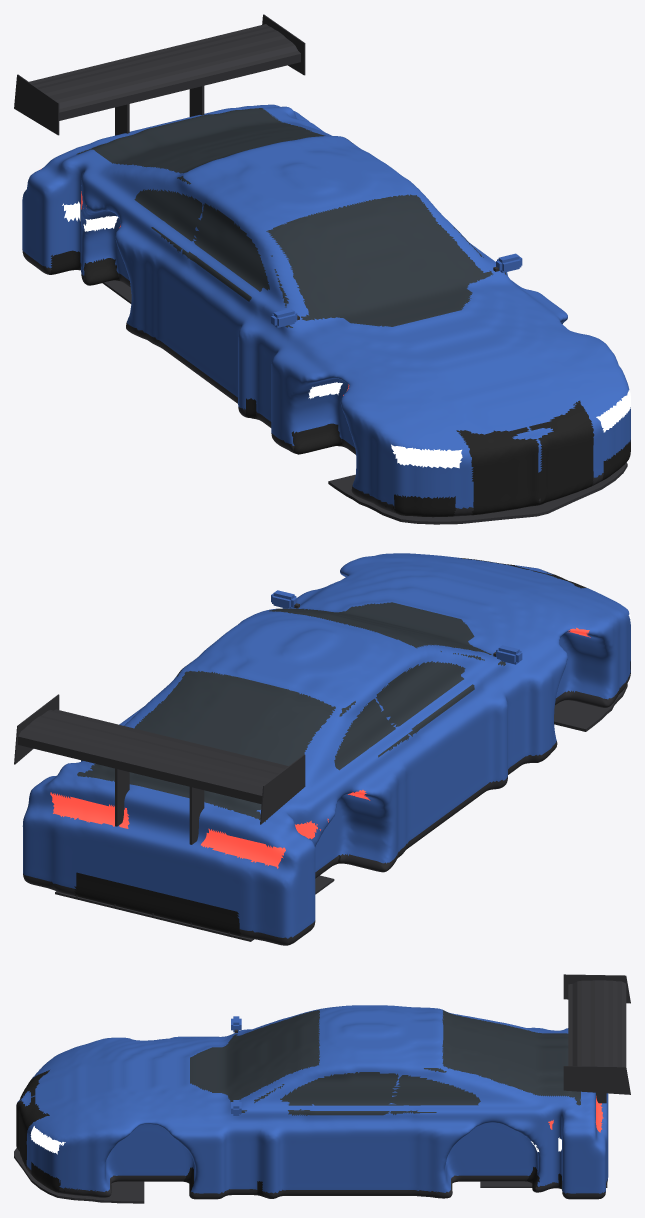
The model's file is BMWM4GT3.fbx.
3 renders of one model, top to bottom at view 1: azimuth 30°, elevation 25°; view 2: azimuth 150°, elevation 25°; view 3: azimuth 270°, elevation 25°, orthographic. The views are drawn at different scales.
Visible parts, largest first — view 1: Body, Wing, Splitter, WingEndplateL; view 2: Body, Wing, WingEndplateL, Splitter, Diffuser, WingMount-1, WingEndplateR, WingMount1; view 3: Body, Wing, WingEndplateR, Splitter, WingEndplateL, Diffuser.
Part boxes in pixels (bbox=[...]): Body: bbox=[22, 104, 630, 517]; Wing: bbox=[29, 24, 300, 120]; Splitter: bbox=[328, 462, 627, 524]; WingEndplateL: bbox=[14, 74, 59, 135]; Body: bbox=[22, 553, 630, 945]; Wing: bbox=[18, 709, 288, 804]; WingEndplateL: bbox=[260, 754, 305, 824]; Splitter: bbox=[554, 684, 627, 731]; Diffuser: bbox=[55, 875, 334, 941]; WingMount-1: bbox=[189, 787, 204, 844]; WingEndplateR: bbox=[14, 694, 59, 764]; WingMount1: bbox=[115, 768, 129, 826]; Body: bbox=[16, 1005, 608, 1199]; Wing: bbox=[568, 980, 626, 1066]; WingEndplateR: bbox=[563, 1066, 630, 1094]; Splitter: bbox=[14, 1148, 144, 1203]; WingEndplateL: bbox=[563, 974, 630, 1003]; Diffuser: bbox=[480, 1181, 607, 1187].
Bounding box in the file's own units: 2.03 × 1.27 × 5.26.
